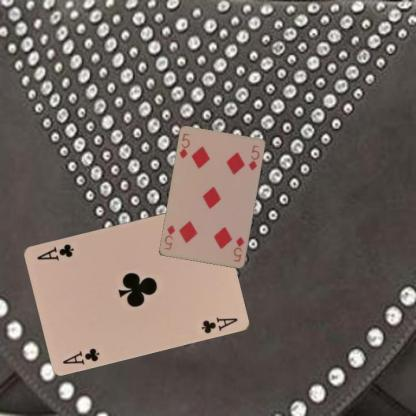5d: (231, 234, 246, 264), (176, 131, 191, 160)
Ac: (60, 345, 101, 366)
